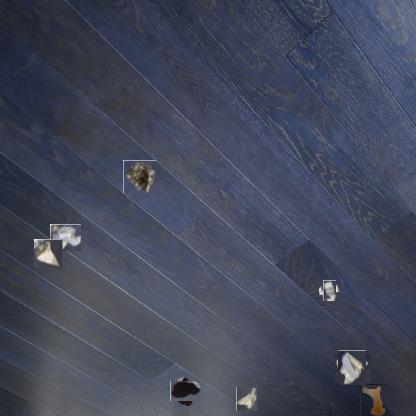dirty: (123, 160, 156, 193), (337, 352, 368, 384), (50, 224, 81, 251), (34, 239, 62, 268), (236, 387, 257, 411), (321, 282, 338, 299)
liquid: (360, 384, 386, 416), (173, 379, 198, 404)
